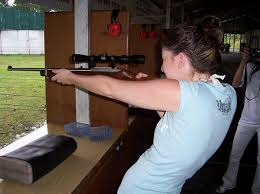Gun: (6, 53, 147, 79)
